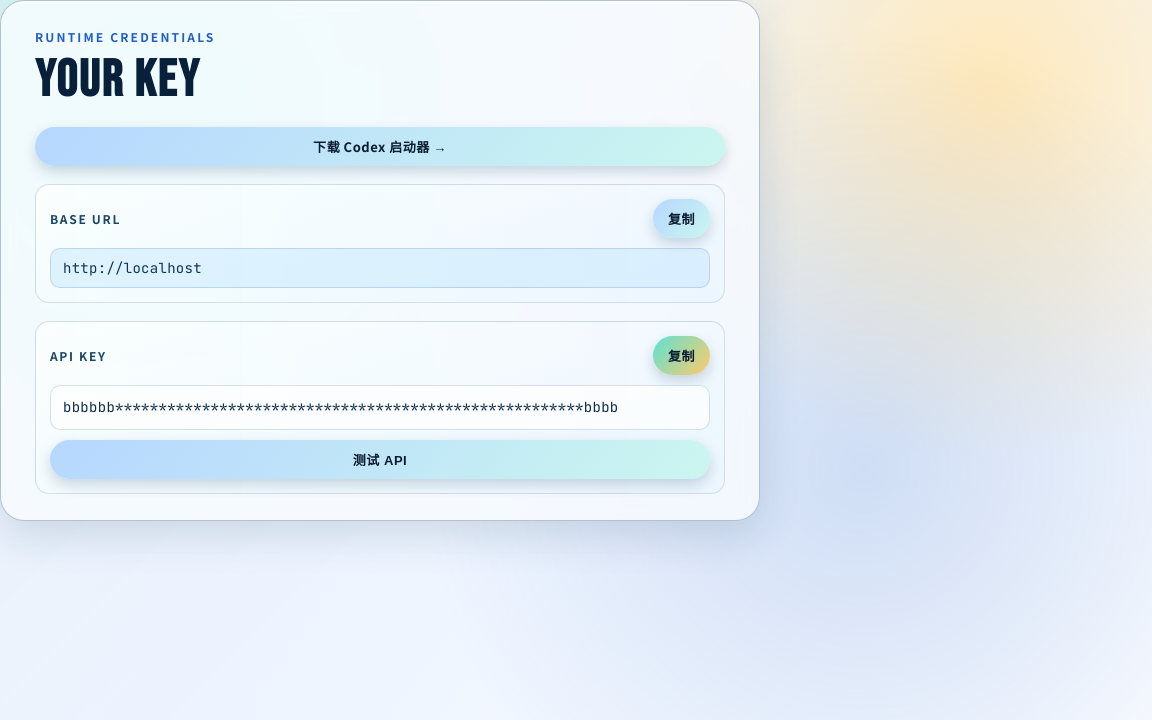
it: KeyResult › shows validation error when baseURL is empty
Clear the field named "Base URL" at [380, 268], box [50,248,710,288]
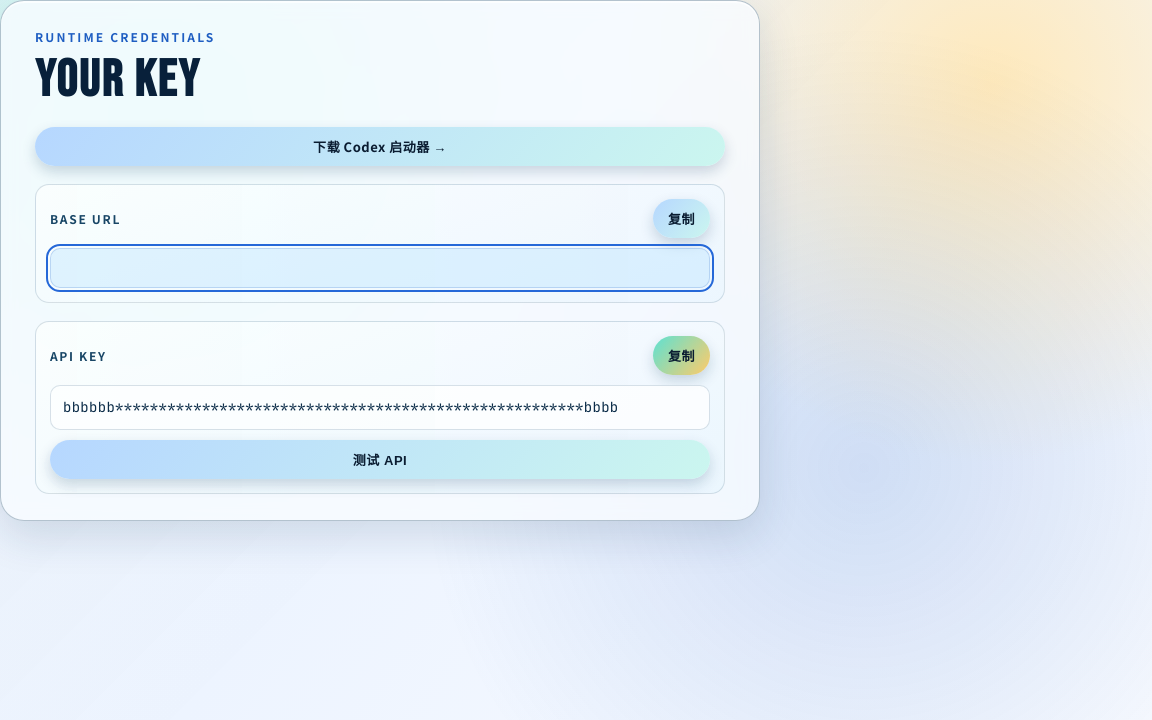
Click the button "测试 API" at [380, 459], box [50,440,710,479]
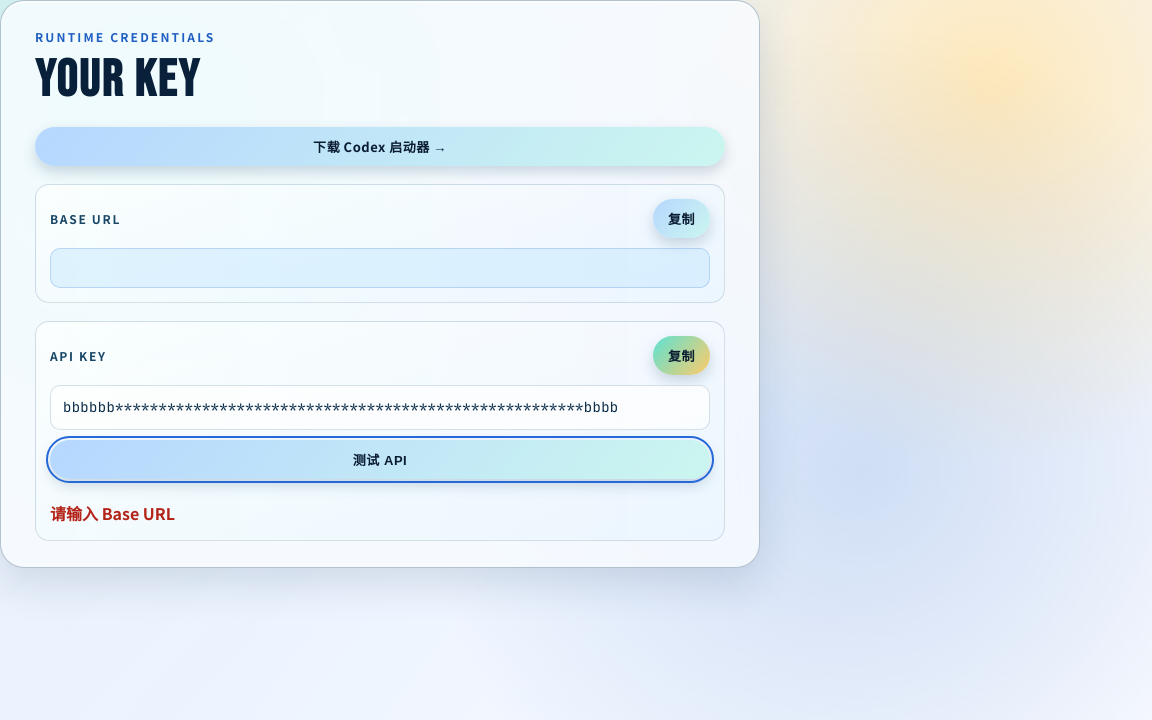
Expected: the text "请输入 Base URL" is shown, [50,501,175,525]
